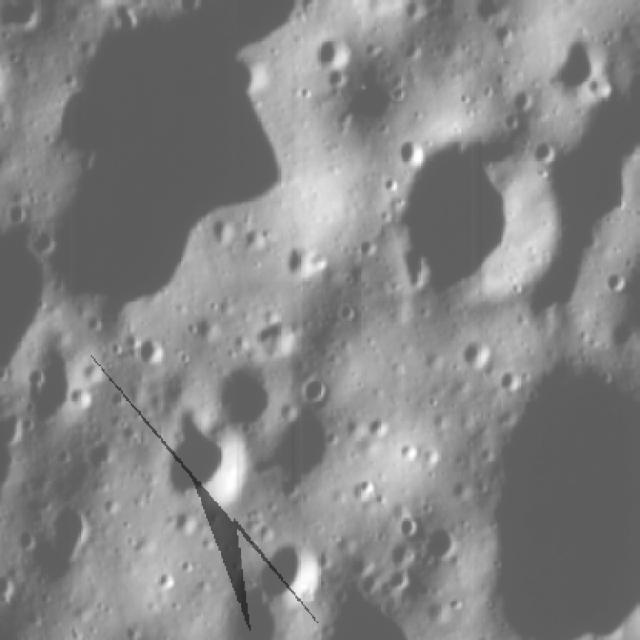crater: (370, 131, 556, 315), (158, 408, 267, 522), (17, 322, 111, 431), (263, 397, 362, 495), (203, 346, 299, 437), (34, 494, 103, 583), (259, 542, 330, 616), (544, 29, 621, 97), (287, 25, 355, 81), (416, 520, 470, 568), (136, 316, 172, 369), (279, 239, 324, 279), (494, 82, 540, 115), (392, 132, 430, 168), (456, 332, 492, 368)
